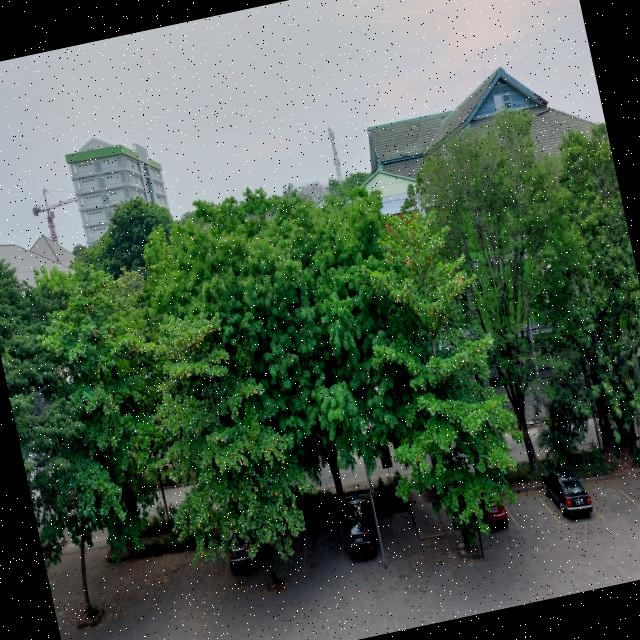empty: (578, 478, 640, 517), (499, 489, 559, 528), (304, 519, 344, 569)
occupied: (532, 468, 603, 522), (341, 499, 384, 561)
